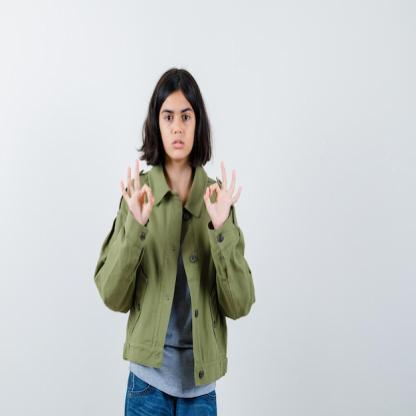ok: (202, 159, 242, 233), (119, 158, 156, 230)
